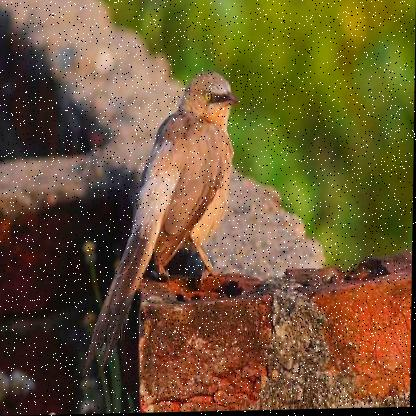Burung: (83, 72, 240, 380)
